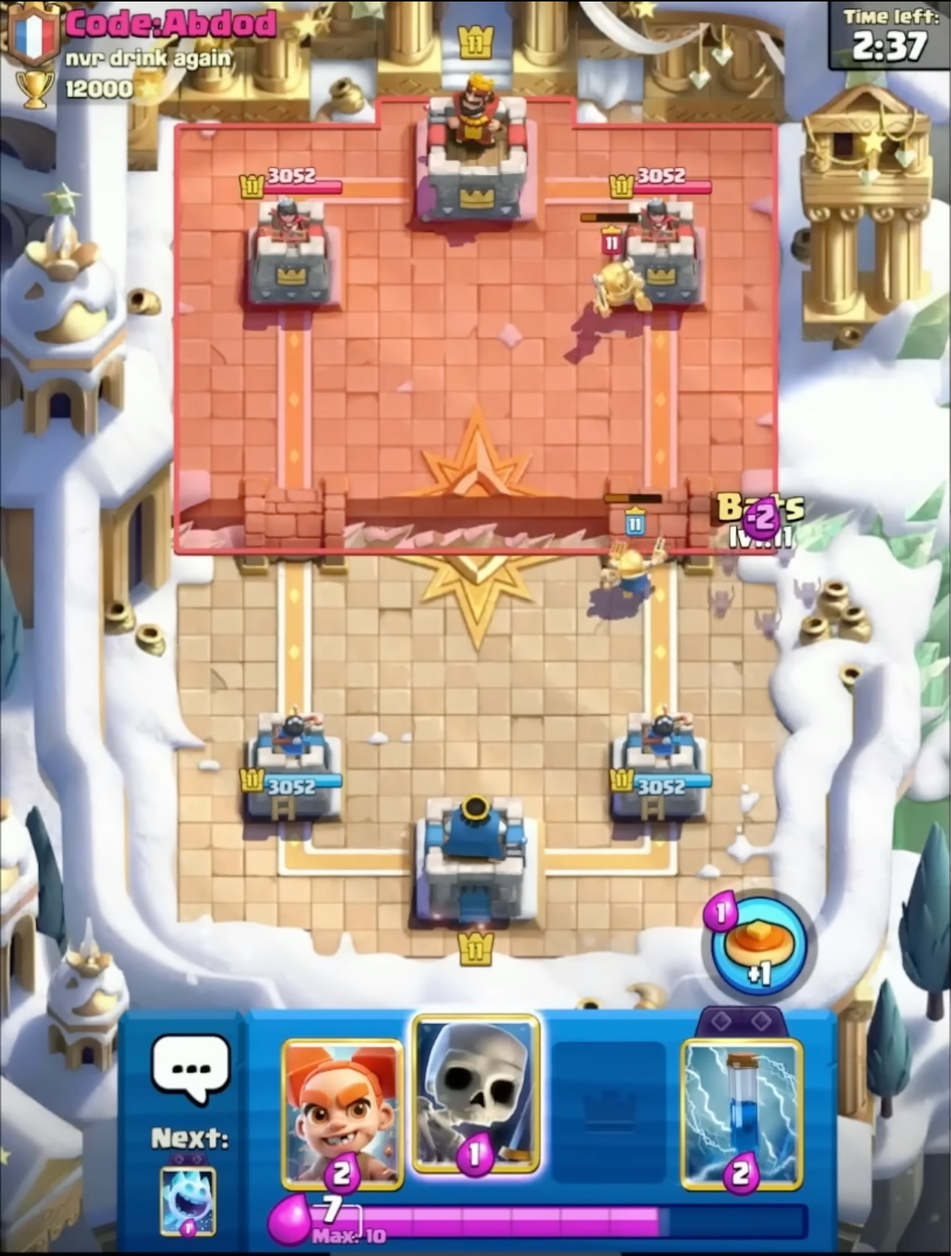hero-mini-pekka: (570, 202, 663, 328)
